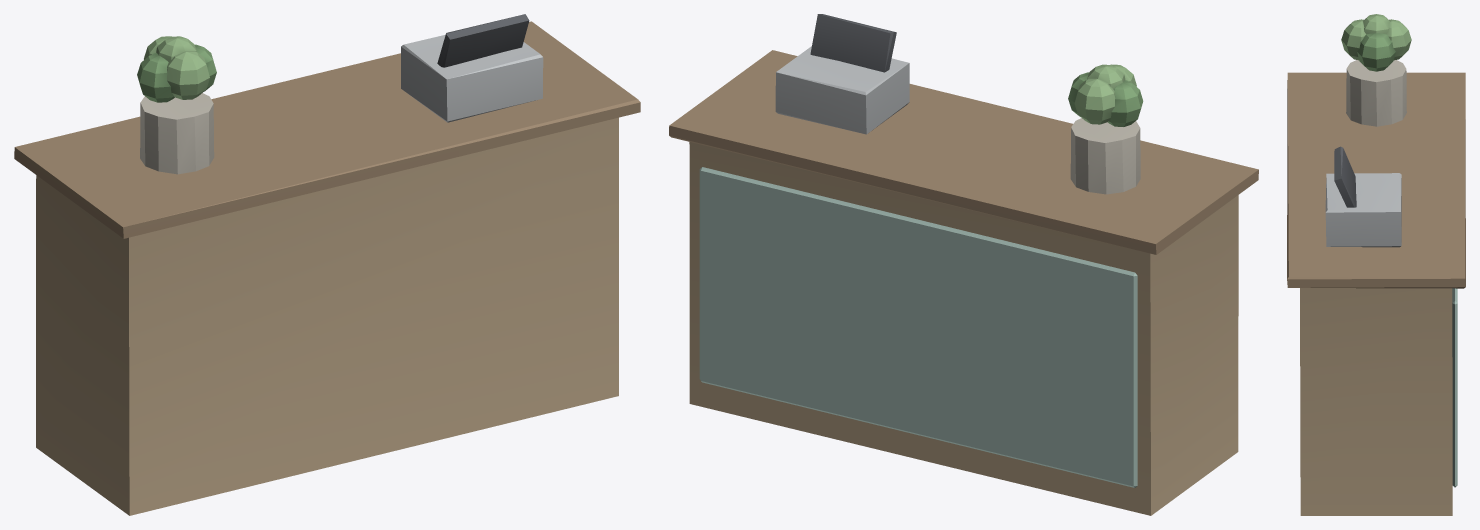
Rendered from shop_checkout_low.glb.
3 renders of one model, left to right at view 1: azimuth 30°, elevation 25°; view 2: azimuth 150°, elevation 25°; view 3: azimuth 270°, elevation 25°, orthographic. The views are drawn at different scales.
Bounding box in the file's own units: 1.89 × 1.47 × 0.6946.
